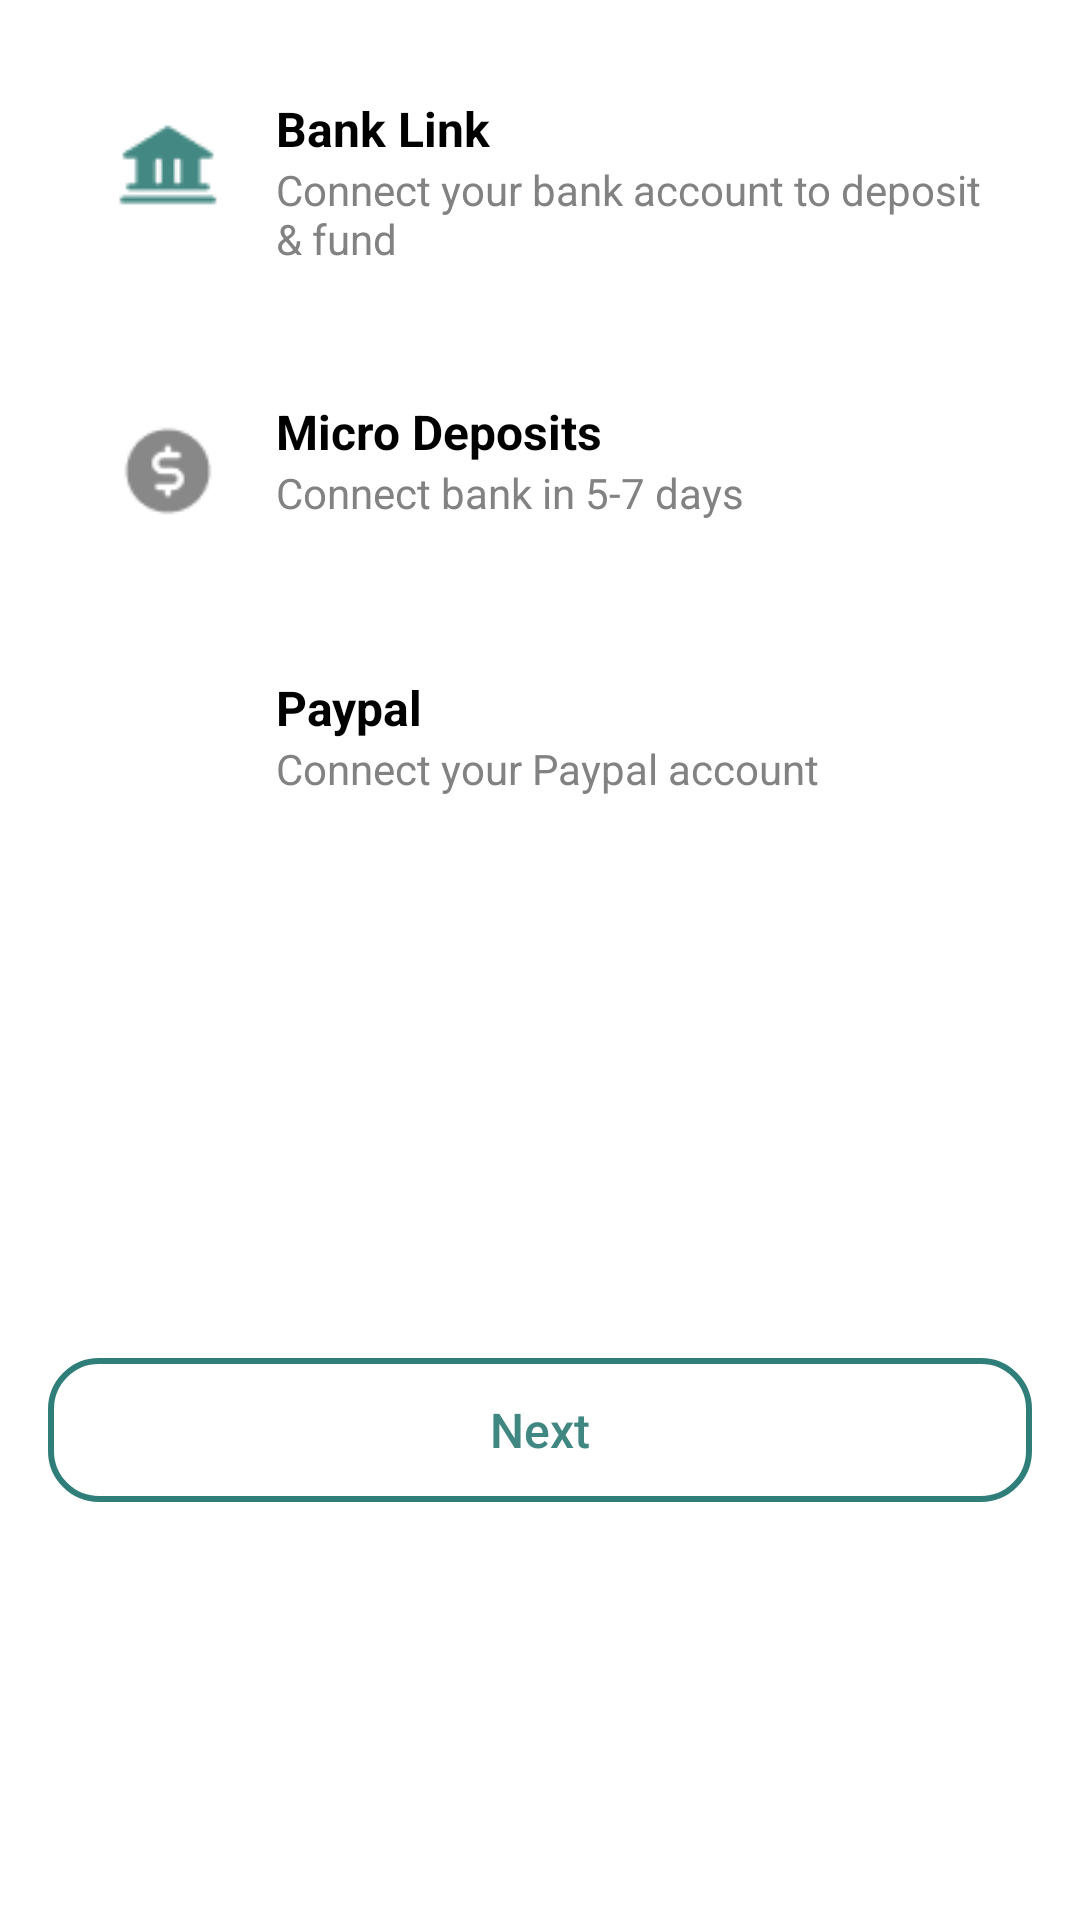

Icons on this 1080 x 1920 Android screen, each with the point to tap as (x,y):
dollar: (168,471)
